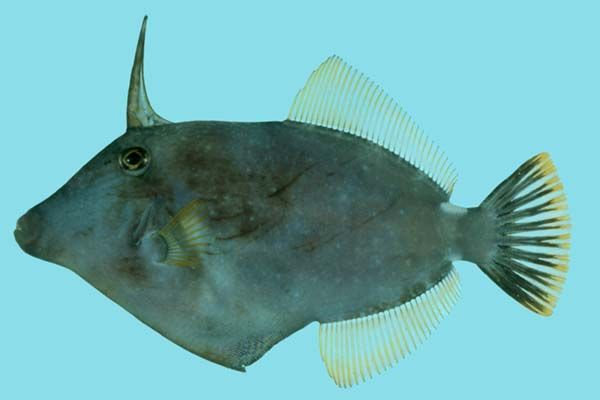fish: (14, 16, 572, 390)
